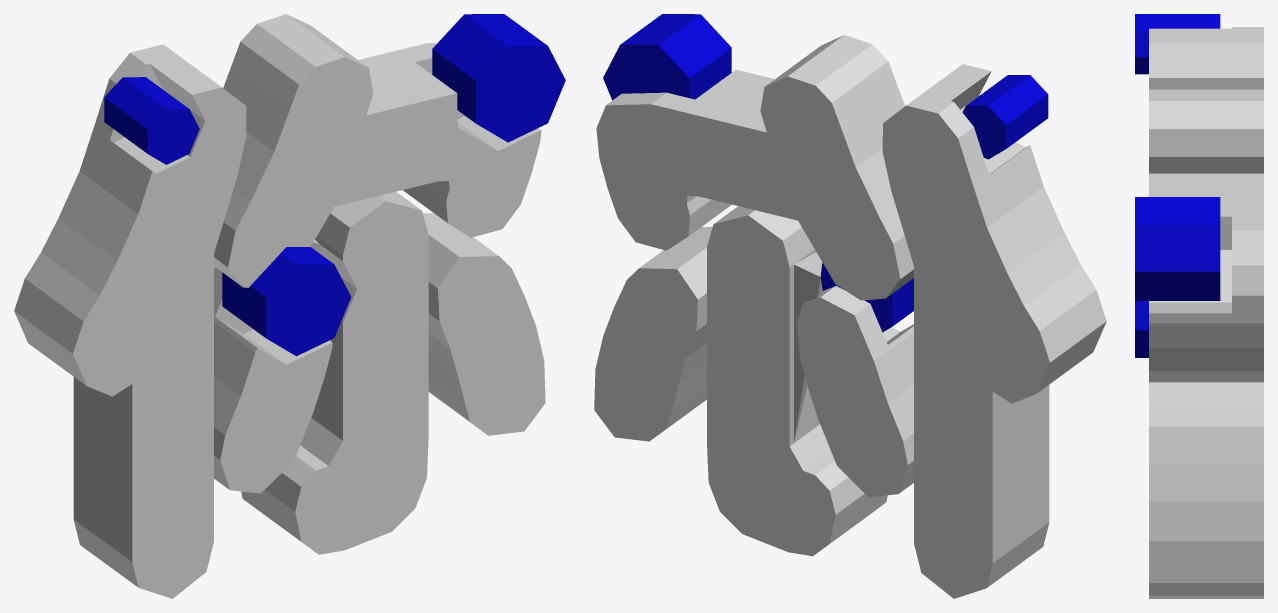
File: Ch_Lite_China_你_01.fbx
3 renders of one model, left to right at view 1: azimuth 30°, elevation 25°; view 2: azimuth 150°, elevation 25°; view 3: azimuth 270°, elevation 25°, orthographic. The views are drawn at different scales.
Parts seen in each view (by area): view 1: sphere1; view 2: sphere1; view 3: sphere1.
Boxes of the visible parts, bbox=[...] form: sphere1: bbox=[14, 14, 565, 598]; sphere1: bbox=[594, 14, 1106, 598]; sphere1: bbox=[1135, 14, 1263, 598].
Bounding box in the file's own units: 0.9541 × 0.938 × 0.2242.
